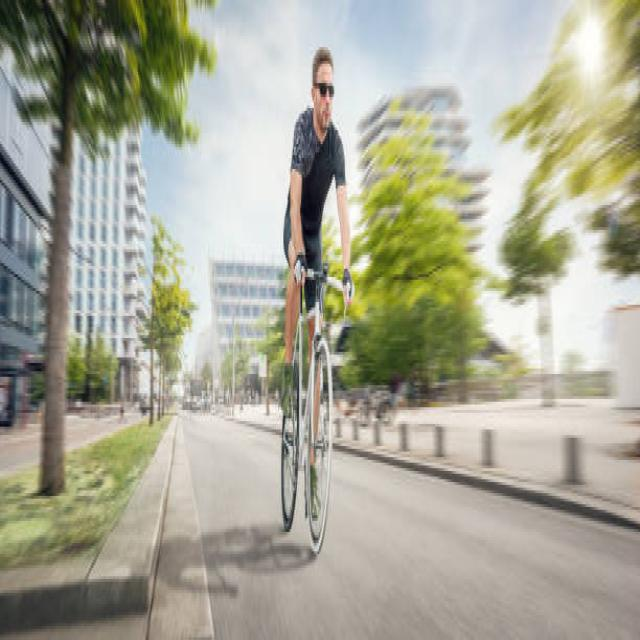bicycle: (281, 46, 354, 551)
